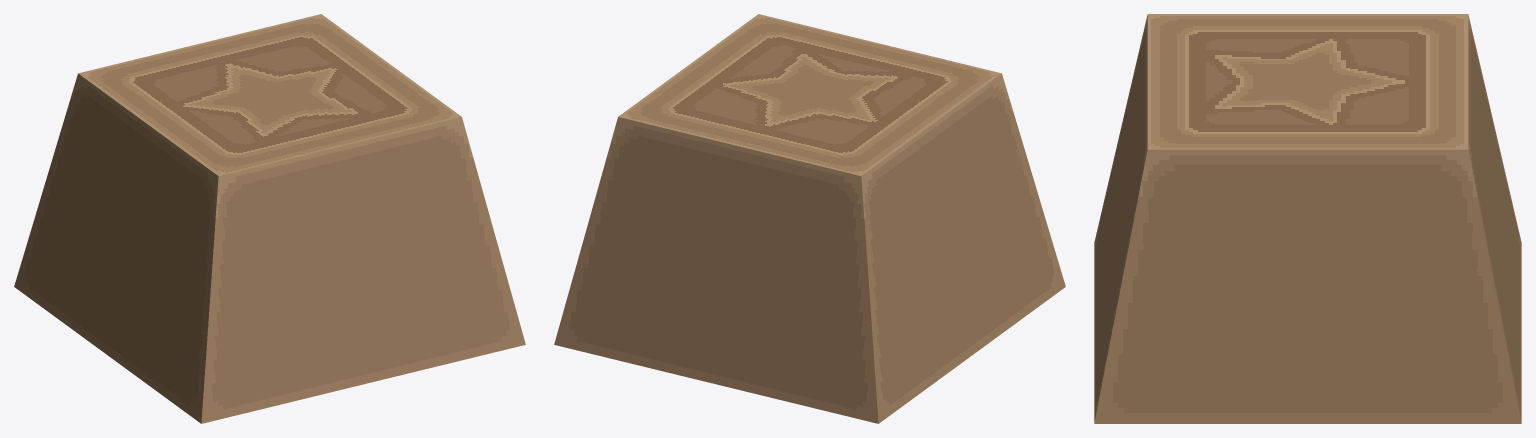
File: 04ec_Chocolate.glb
3 views of the same model, side by side, from view 1: azimuth 30°, elevation 25°; view 2: azimuth 150°, elevation 25°; view 3: azimuth 270°, elevation 25° (orthographic). The views are drawn at different scales.
Parts seen in each view (by area): view 1: part_0; view 2: part_0; view 3: part_0.
Boxes of the visible parts, box(x1,y1,x2,y2) form: part_0: box(14, 14, 525, 423); part_0: box(554, 14, 1065, 423); part_0: box(1094, 14, 1521, 423).
Bounding box in the file's own units: 0.02 × 0.013 × 0.02.
Materials: 1 (1 with a texture image).
